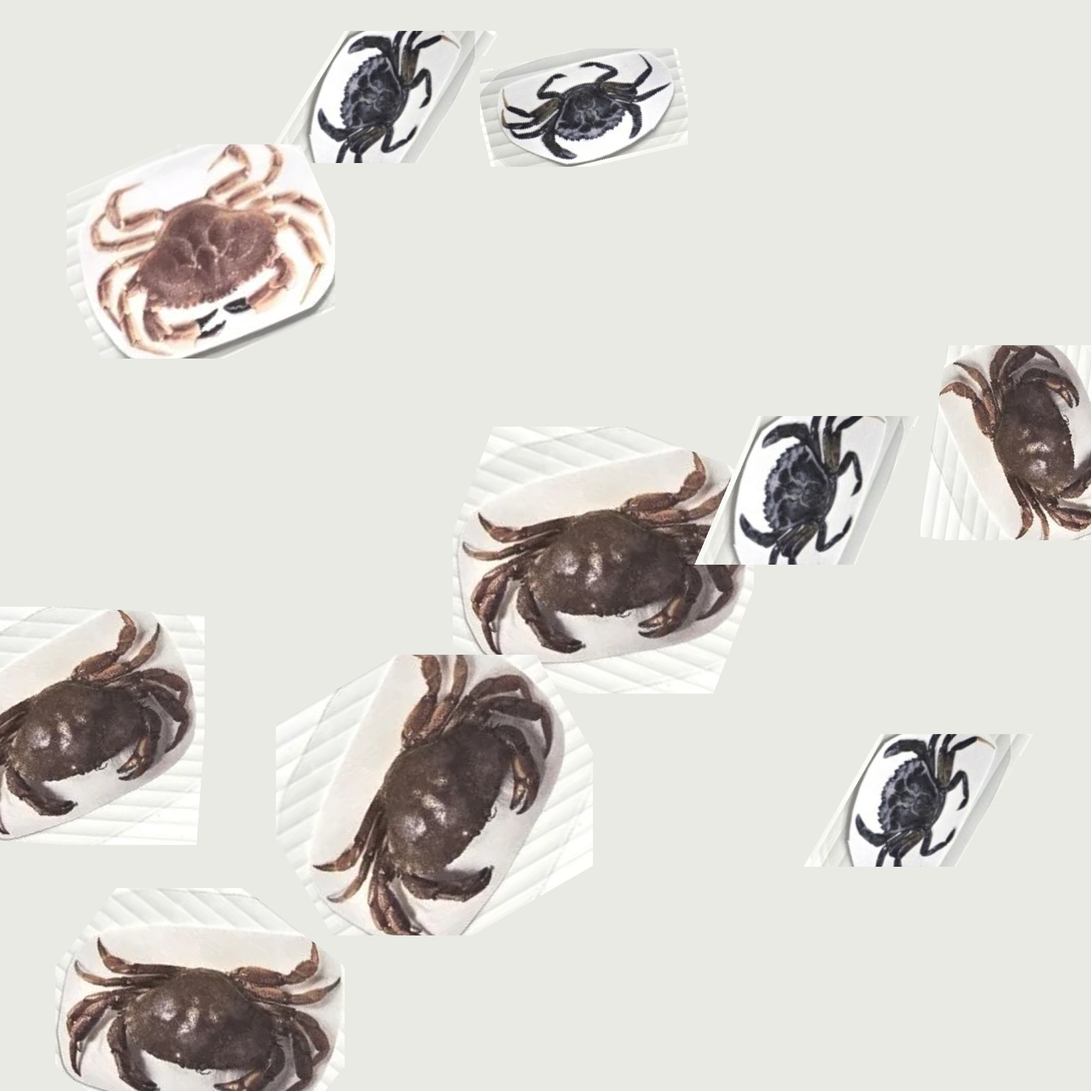evil: (811, 721, 1001, 887), (712, 398, 882, 579), (304, 38, 465, 161), (503, 57, 674, 171)
normal: (446, 422, 716, 716), (318, 650, 588, 892), (28, 897, 325, 1091), (90, 142, 346, 356), (0, 602, 185, 854), (939, 342, 1091, 560)
